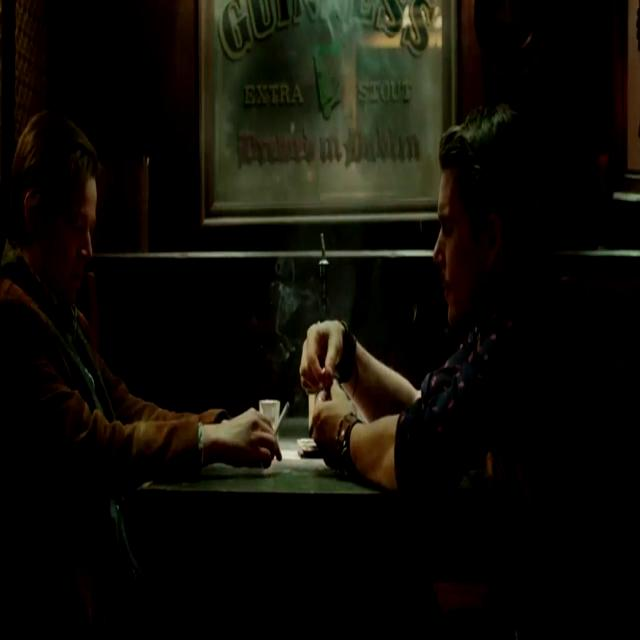Smooking: (270, 390, 293, 438)
